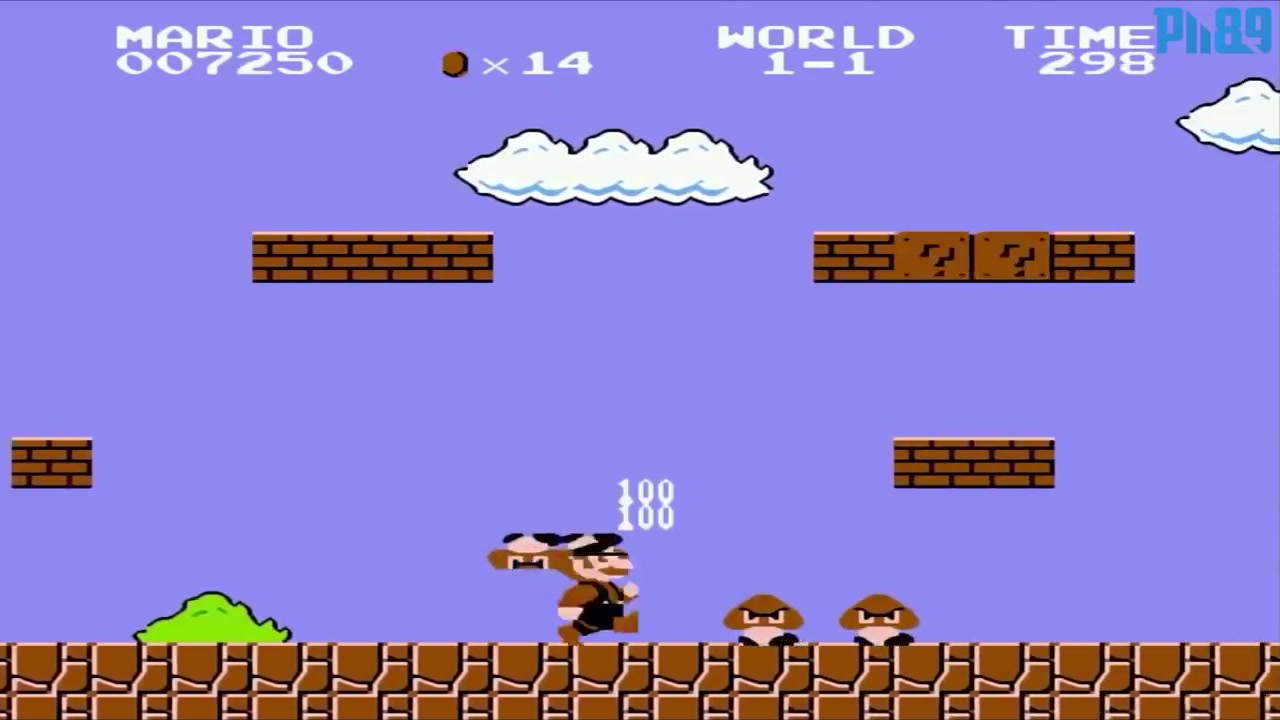mario: (545, 535, 642, 644)
